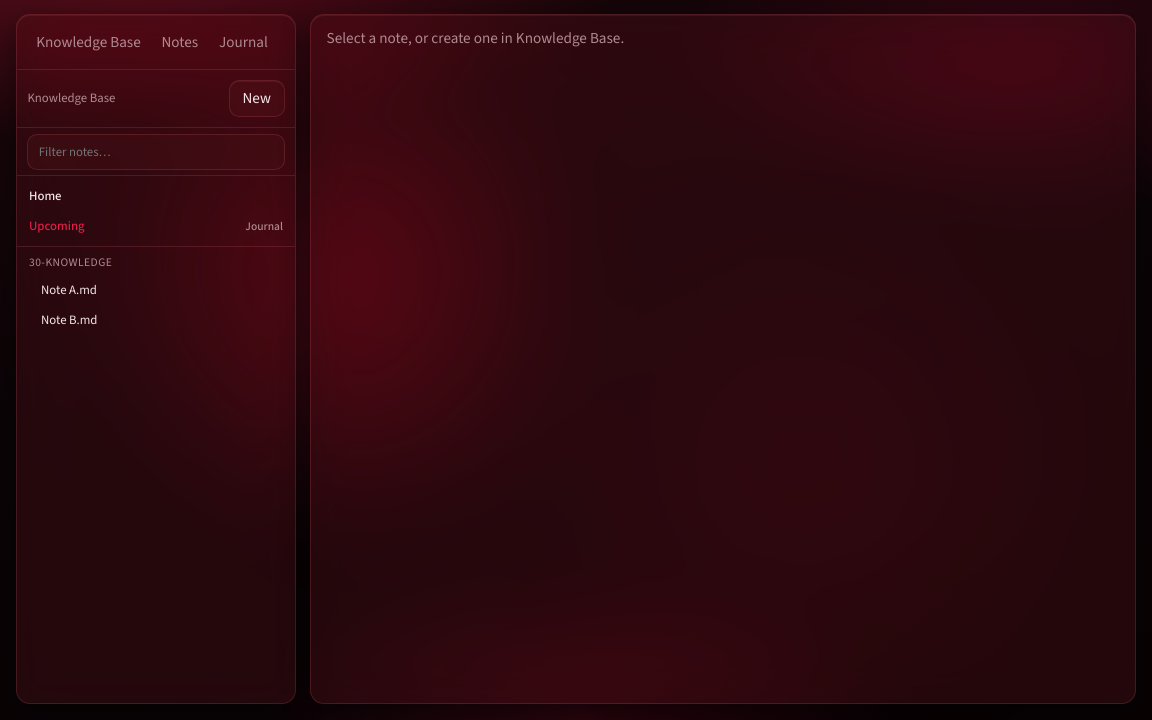
KnowledgePane background vault events › refreshes a clean open note on SSE events without closing it
Click the button "Note A.md".
click(69, 290)  # box [17,274,295,305]
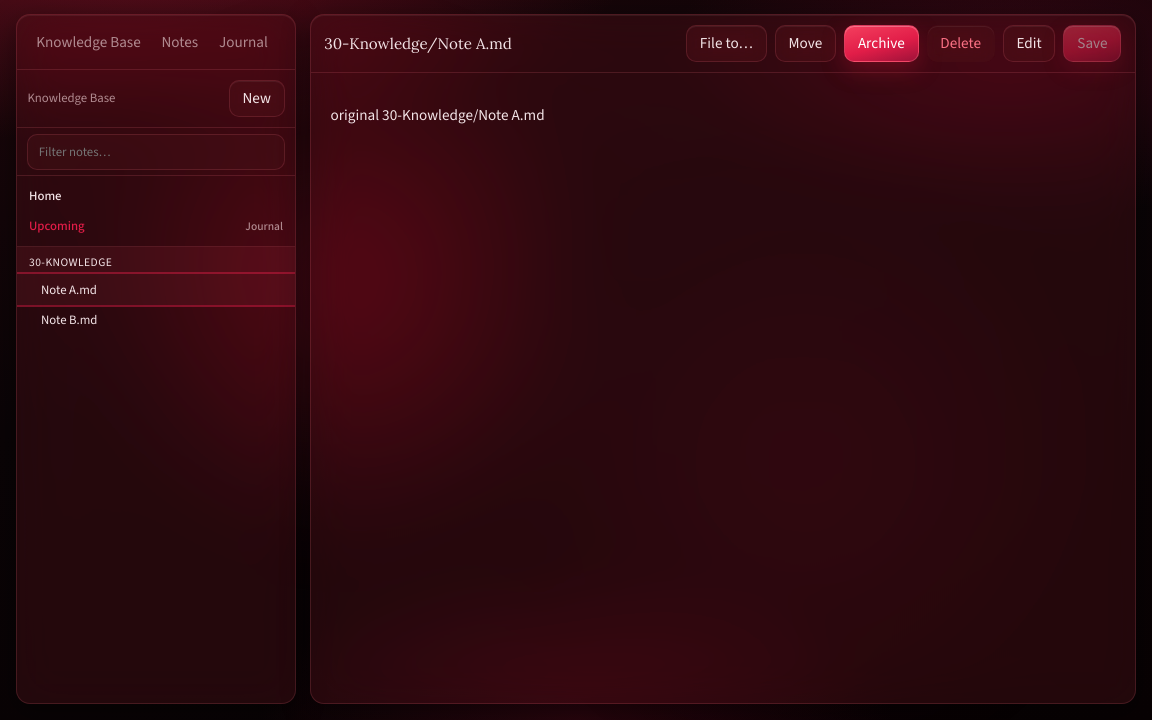
Click the button "Edit".
click(1029, 43)  # box [1003,25,1056,62]
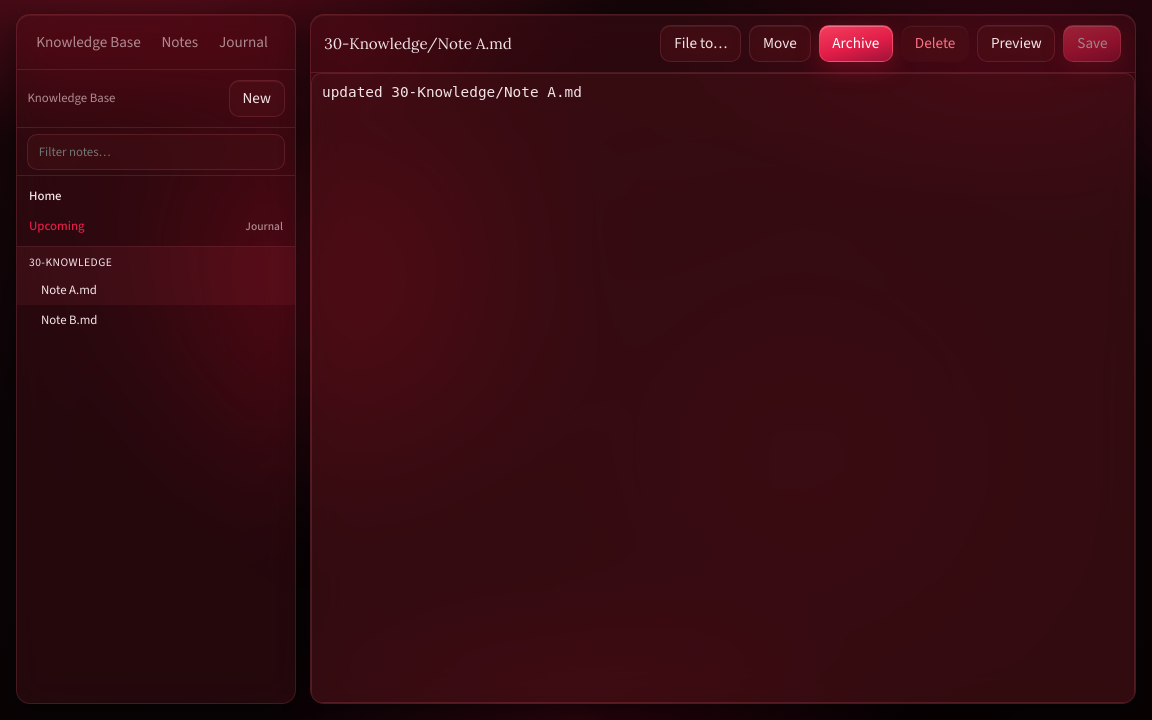
Now the text box showing "updated 30-Knowledge/Note A.md" is shown
